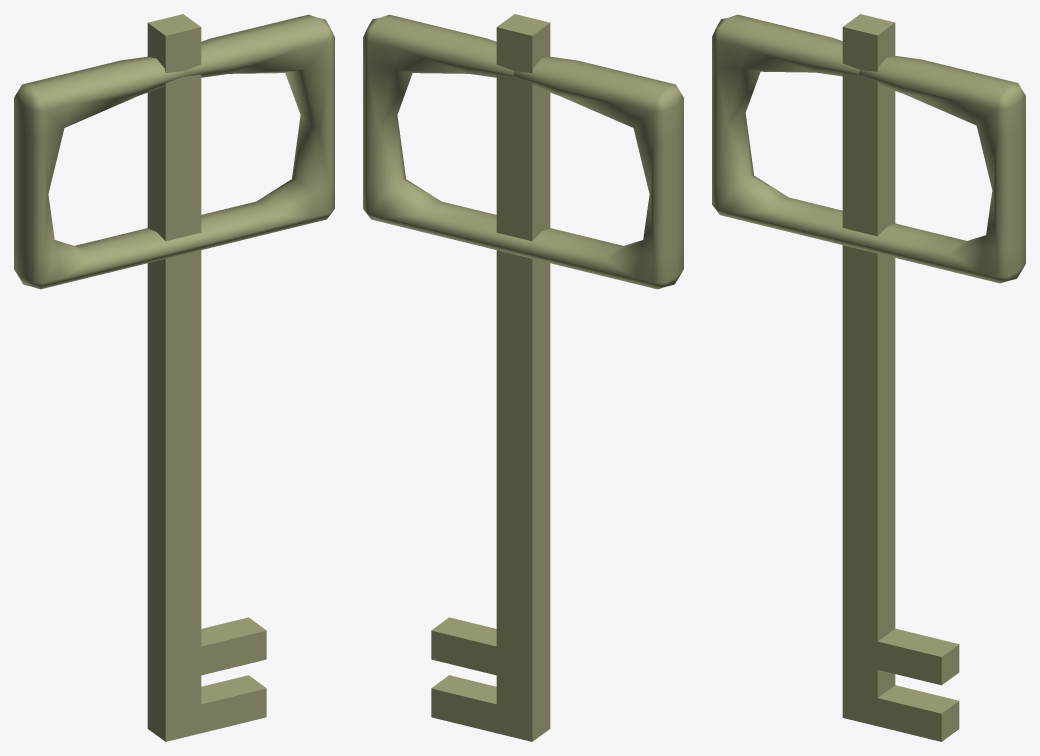
The model's file is Key.fbx.
3 views of the same model, side by side, from view 1: azimuth 30°, elevation 25°; view 2: azimuth 150°, elevation 25°; view 3: azimuth 330°, elevation 25° (orthographic). The views are drawn at different scales.
Parts seen in each view (by area): view 1: pCube3; view 2: pCube3; view 3: pCube3.
Part boxes in pixels (left/top/right/bottom): pCube3: left=14, top=14, right=334, bottom=741; pCube3: left=363, top=14, right=683, bottom=741; pCube3: left=712, top=14, right=1025, bottom=741.
Size of the model in its own units: 0.7983 by 1.75 by 0.1101.
